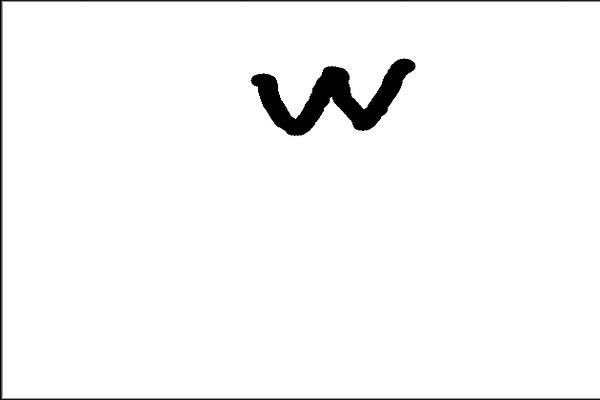w: (239, 39, 425, 144)
